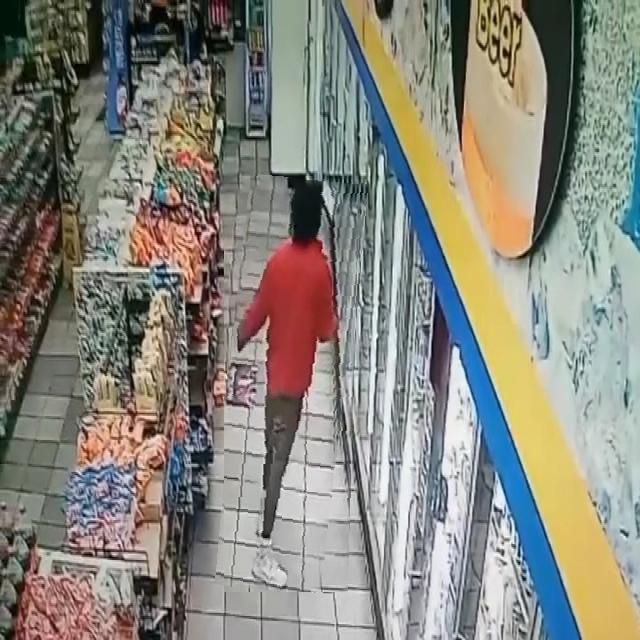normal: (224, 176, 360, 592)
